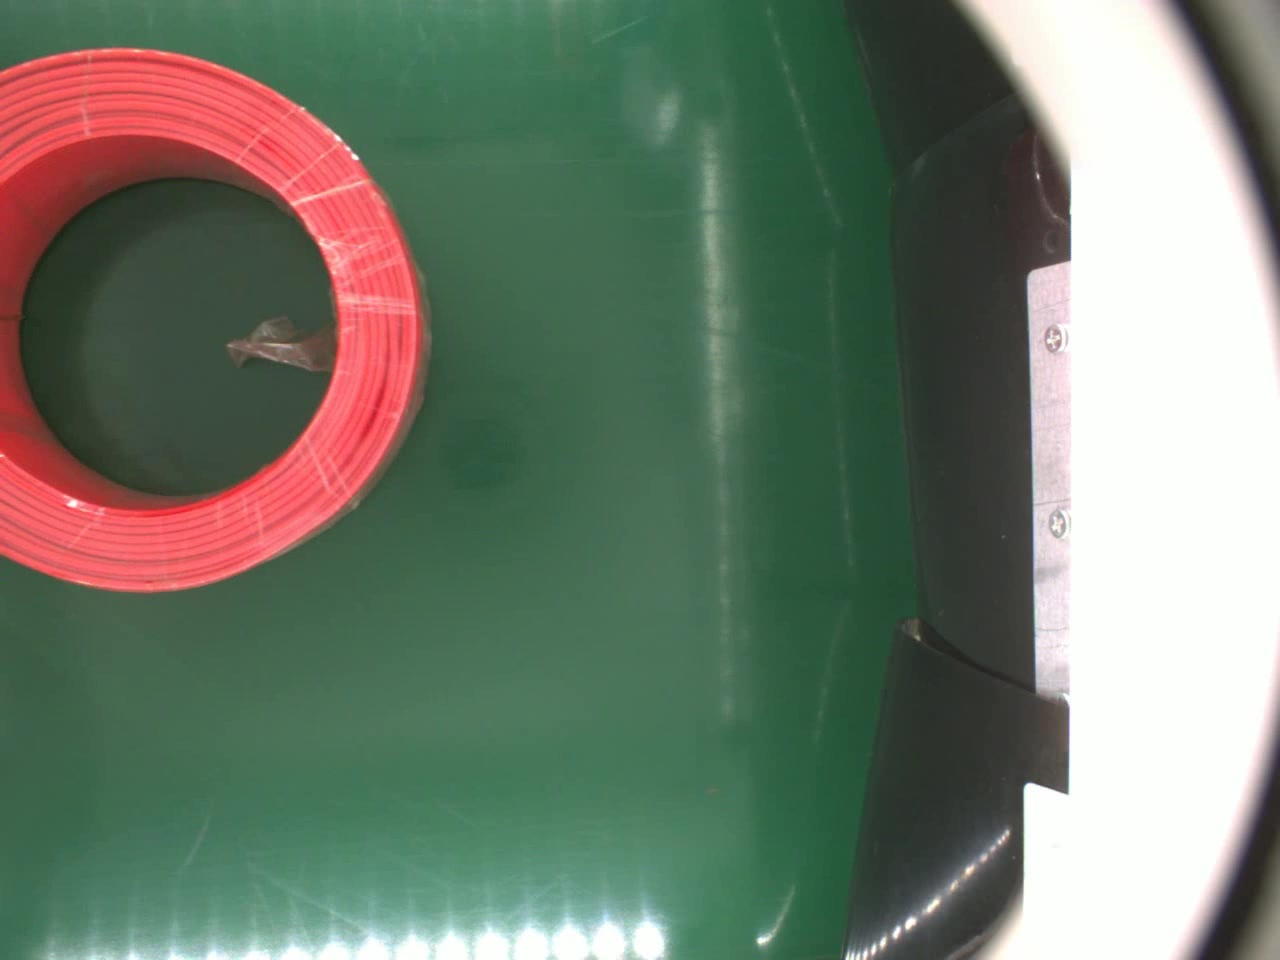red: (0, 45, 437, 598)
